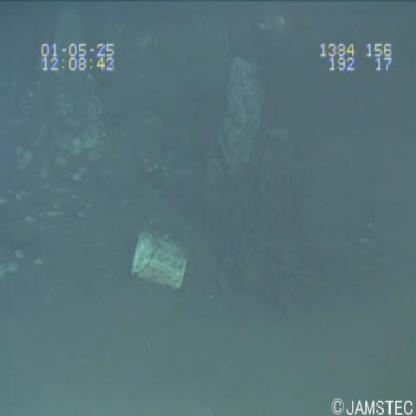Rác: (122, 225, 194, 302)
